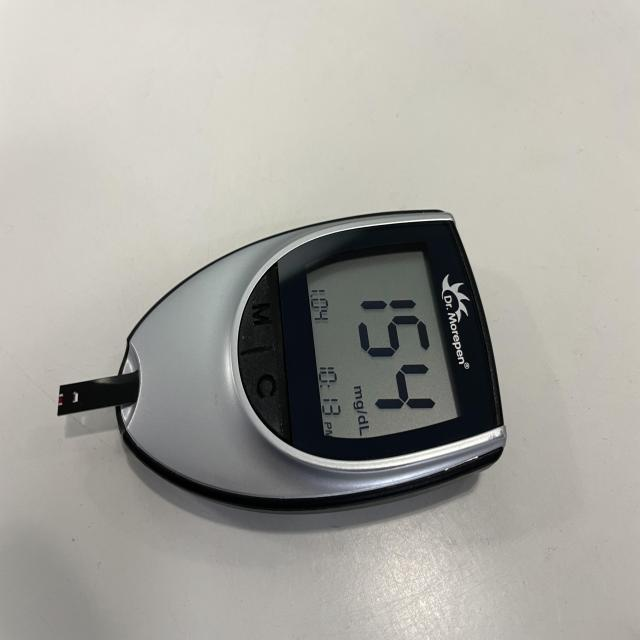gluco: (59, 210, 507, 515)
